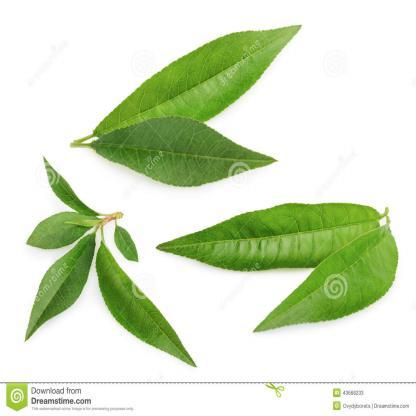Peach leaf: (90, 22, 305, 141), (152, 195, 386, 284), (252, 221, 400, 333), (86, 113, 281, 186), (97, 240, 198, 370), (23, 234, 96, 348), (42, 155, 100, 216), (20, 212, 98, 249), (113, 222, 140, 263)
